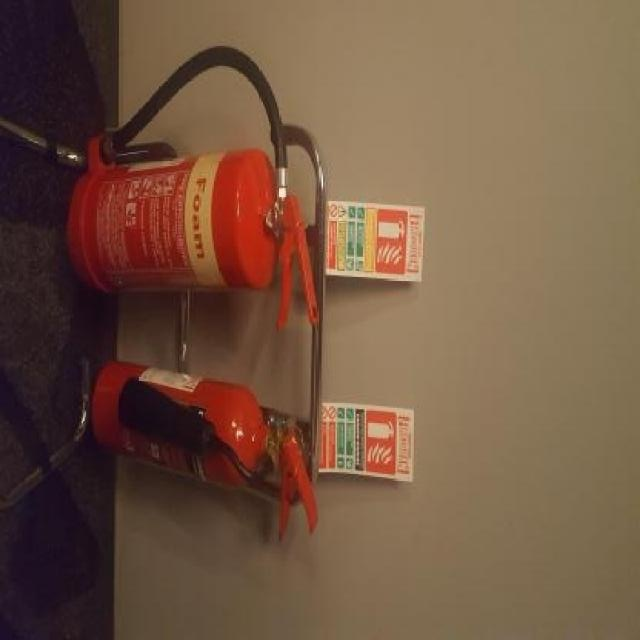fire extinguisher: (66, 43, 317, 331), (90, 358, 319, 547)
